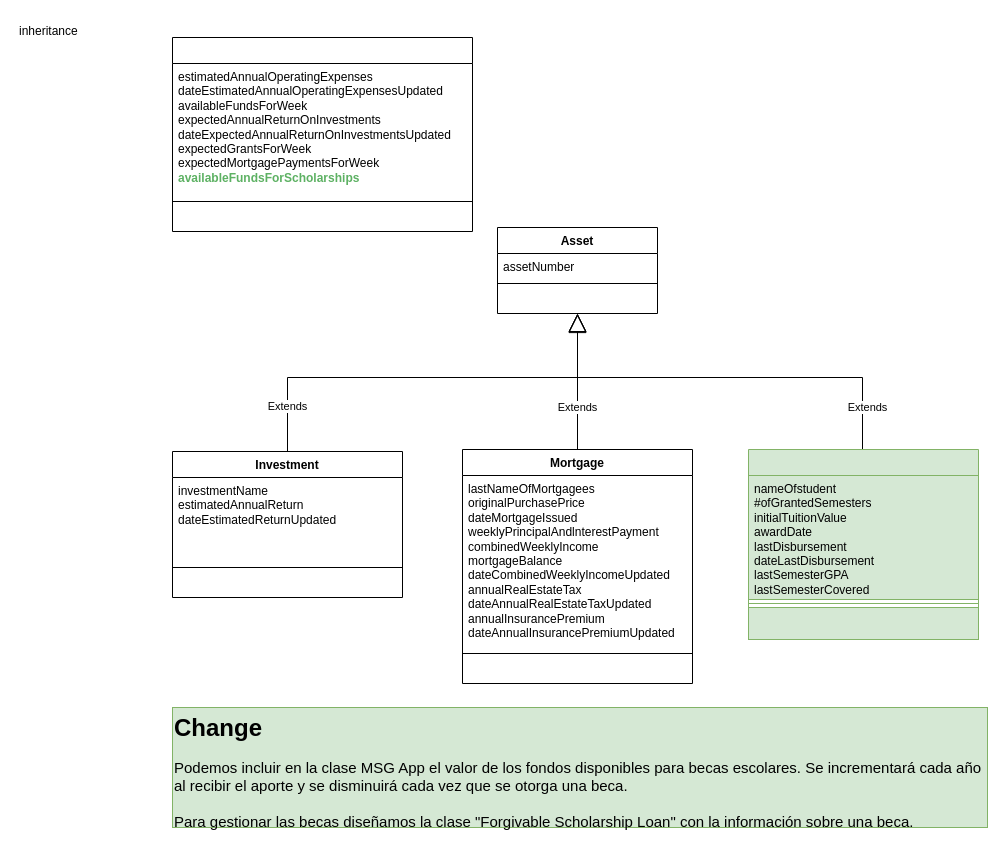
Some shapes in this 1005 by 847 pixel diagram are drawn without their labels. Each missing label, with the box of its shape:
Forgivable Scholarship Loan: (748, 448, 978, 640)
MSG App: (172, 36, 472, 232)
